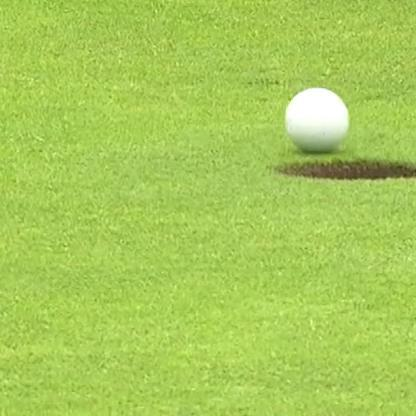golfball: (282, 86, 347, 151)
